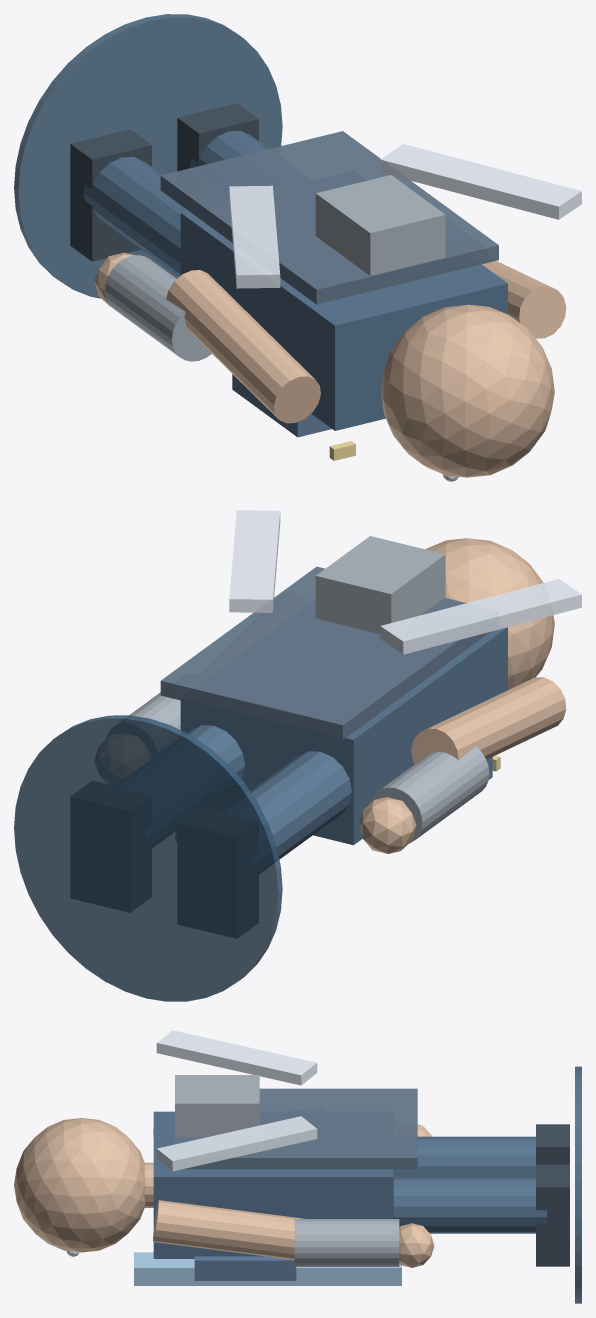
Rendered from SW_NPC_001_ari_stormvale.glb.
3 renders of one model, top to bottom at view 1: azimuth 30°, elevation 25°; view 2: azimuth 150°, elevation 25°; view 3: azimuth 270°, elevation 25°, orthographic. The views are drawn at different scales.
Visible parts, largest first — view 1: round_base_plate, head, torso_uniform, storm_cloak, left_upper_arm, wingpack_core, left_leg, right_wing_rig, left_forearm_gauntlet, left_boot, left_wing_rig, right_upper_arm (+4 smaller); view 2: round_base_plate, storm_cloak, torso_uniform, wingpack_core, head, left_upper_arm, left_wing_rig, left_leg, left_forearm_gauntlet, right_wing_rig, left_hand, right_leg (+1 smaller); view 3: head, torso_uniform, storm_cloak, right_leg, right_upper_arm, left_leg, right_forearm_gauntlet, wingpack_core, rank_sash, right_wing_rig, left_wing_rig, right_boot (+5 smaller).
Boxes of the visible parts, x1,y1,x2,y2 form: round_base_plate: (14,14,282,298); head: (380,304,554,477); torso_uniform: (180,211,507,430); storm_cloak: (160,131,498,304); left_upper_arm: (166,270,320,423); wingpack_core: (315,175,445,275); left_leg: (83,157,188,276); right_wing_rig: (380,144,581,219); left_forearm_gauntlet: (105,255,211,361); left_boot: (70,129,151,261); left_wing_rig: (229,185,280,288); right_upper_arm: (482,261,566,338); round_base_plate: (14,715,282,1001); storm_cloak: (160,566,490,739); torso_uniform: (180,627,507,845); wingpack_core: (315,536,445,633); head: (426,538,554,689); left_upper_arm: (411,677,566,763); left_wing_rig: (380,579,581,654); left_leg: (250,751,351,859); left_forearm_gauntlet: (369,746,489,843); right_wing_rig: (229,510,280,612); left_hand: (358,797,416,853); right_leg: (187,725,244,779); head: (14,1118,145,1252); torso_uniform: (153,1111,393,1258); storm_cloak: (175,1088,417,1169); right_leg: (393,1177,547,1233); right_upper_arm: (153,1200,304,1259); left_leg: (393,1136,535,1177); right_forearm_gauntlet: (294,1219,399,1266); wingpack_core: (175,1075,259,1136); rank_sash: (134,1252,401,1285); right_wing_rig: (156,1116,317,1171); left_wing_rig: (156,1030,317,1085); right_boot: (536,1164,569,1266).
Bounding box in the file's own units: 1.1 × 0.84 × 2.01.
